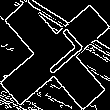L_SW: (26, 27, 84, 83)
